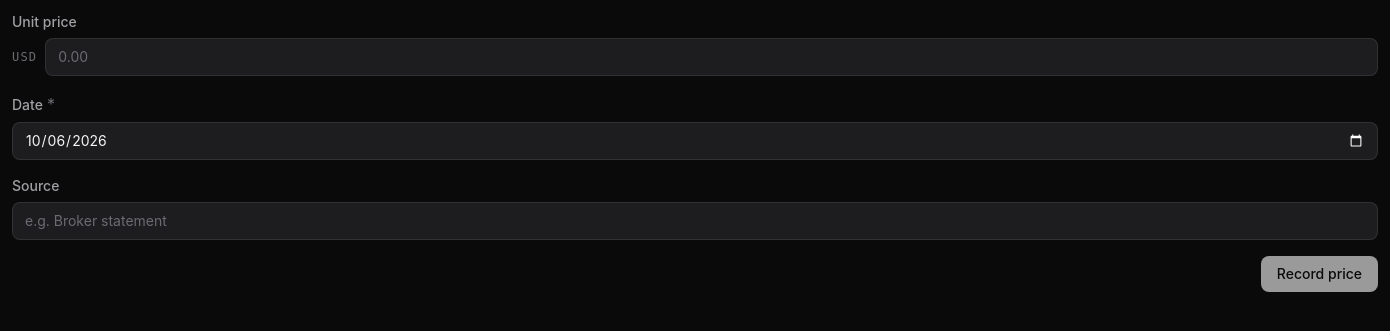
Test: PriceUpdateForm › rejects an invalid amount instead of submitting
Type "not-a-number" into the field labelled "Unit price" at (712, 57), box [45,38,1378,76]
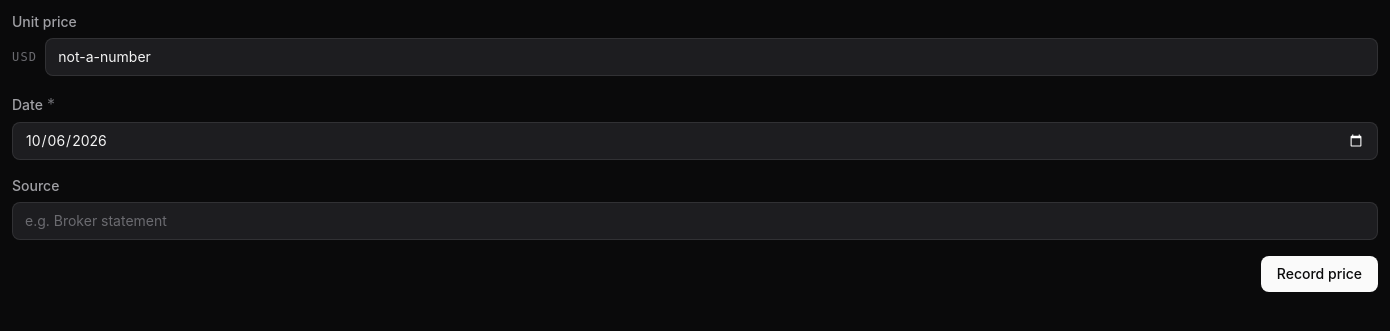
Click the button "Record price" at (1319, 274), box [1261,256,1378,292]
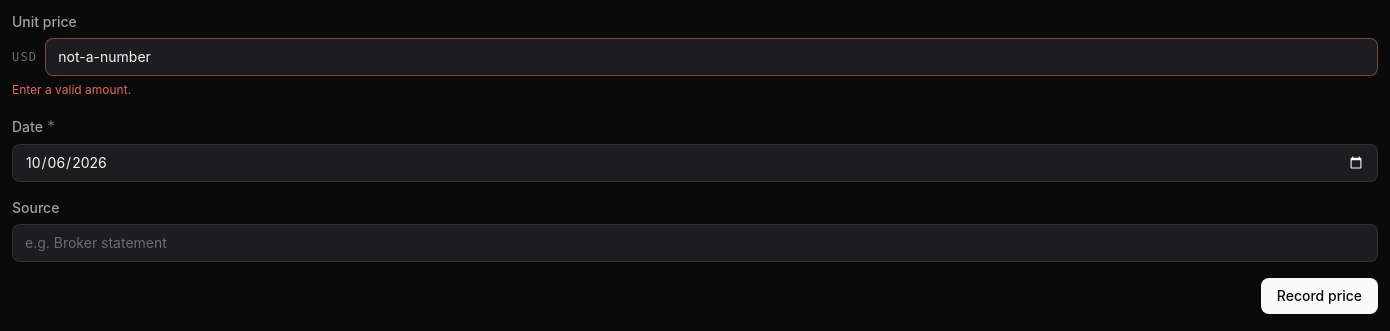
expect the text "Enter a valid amount." is shown: met, box [12,82,131,97]
